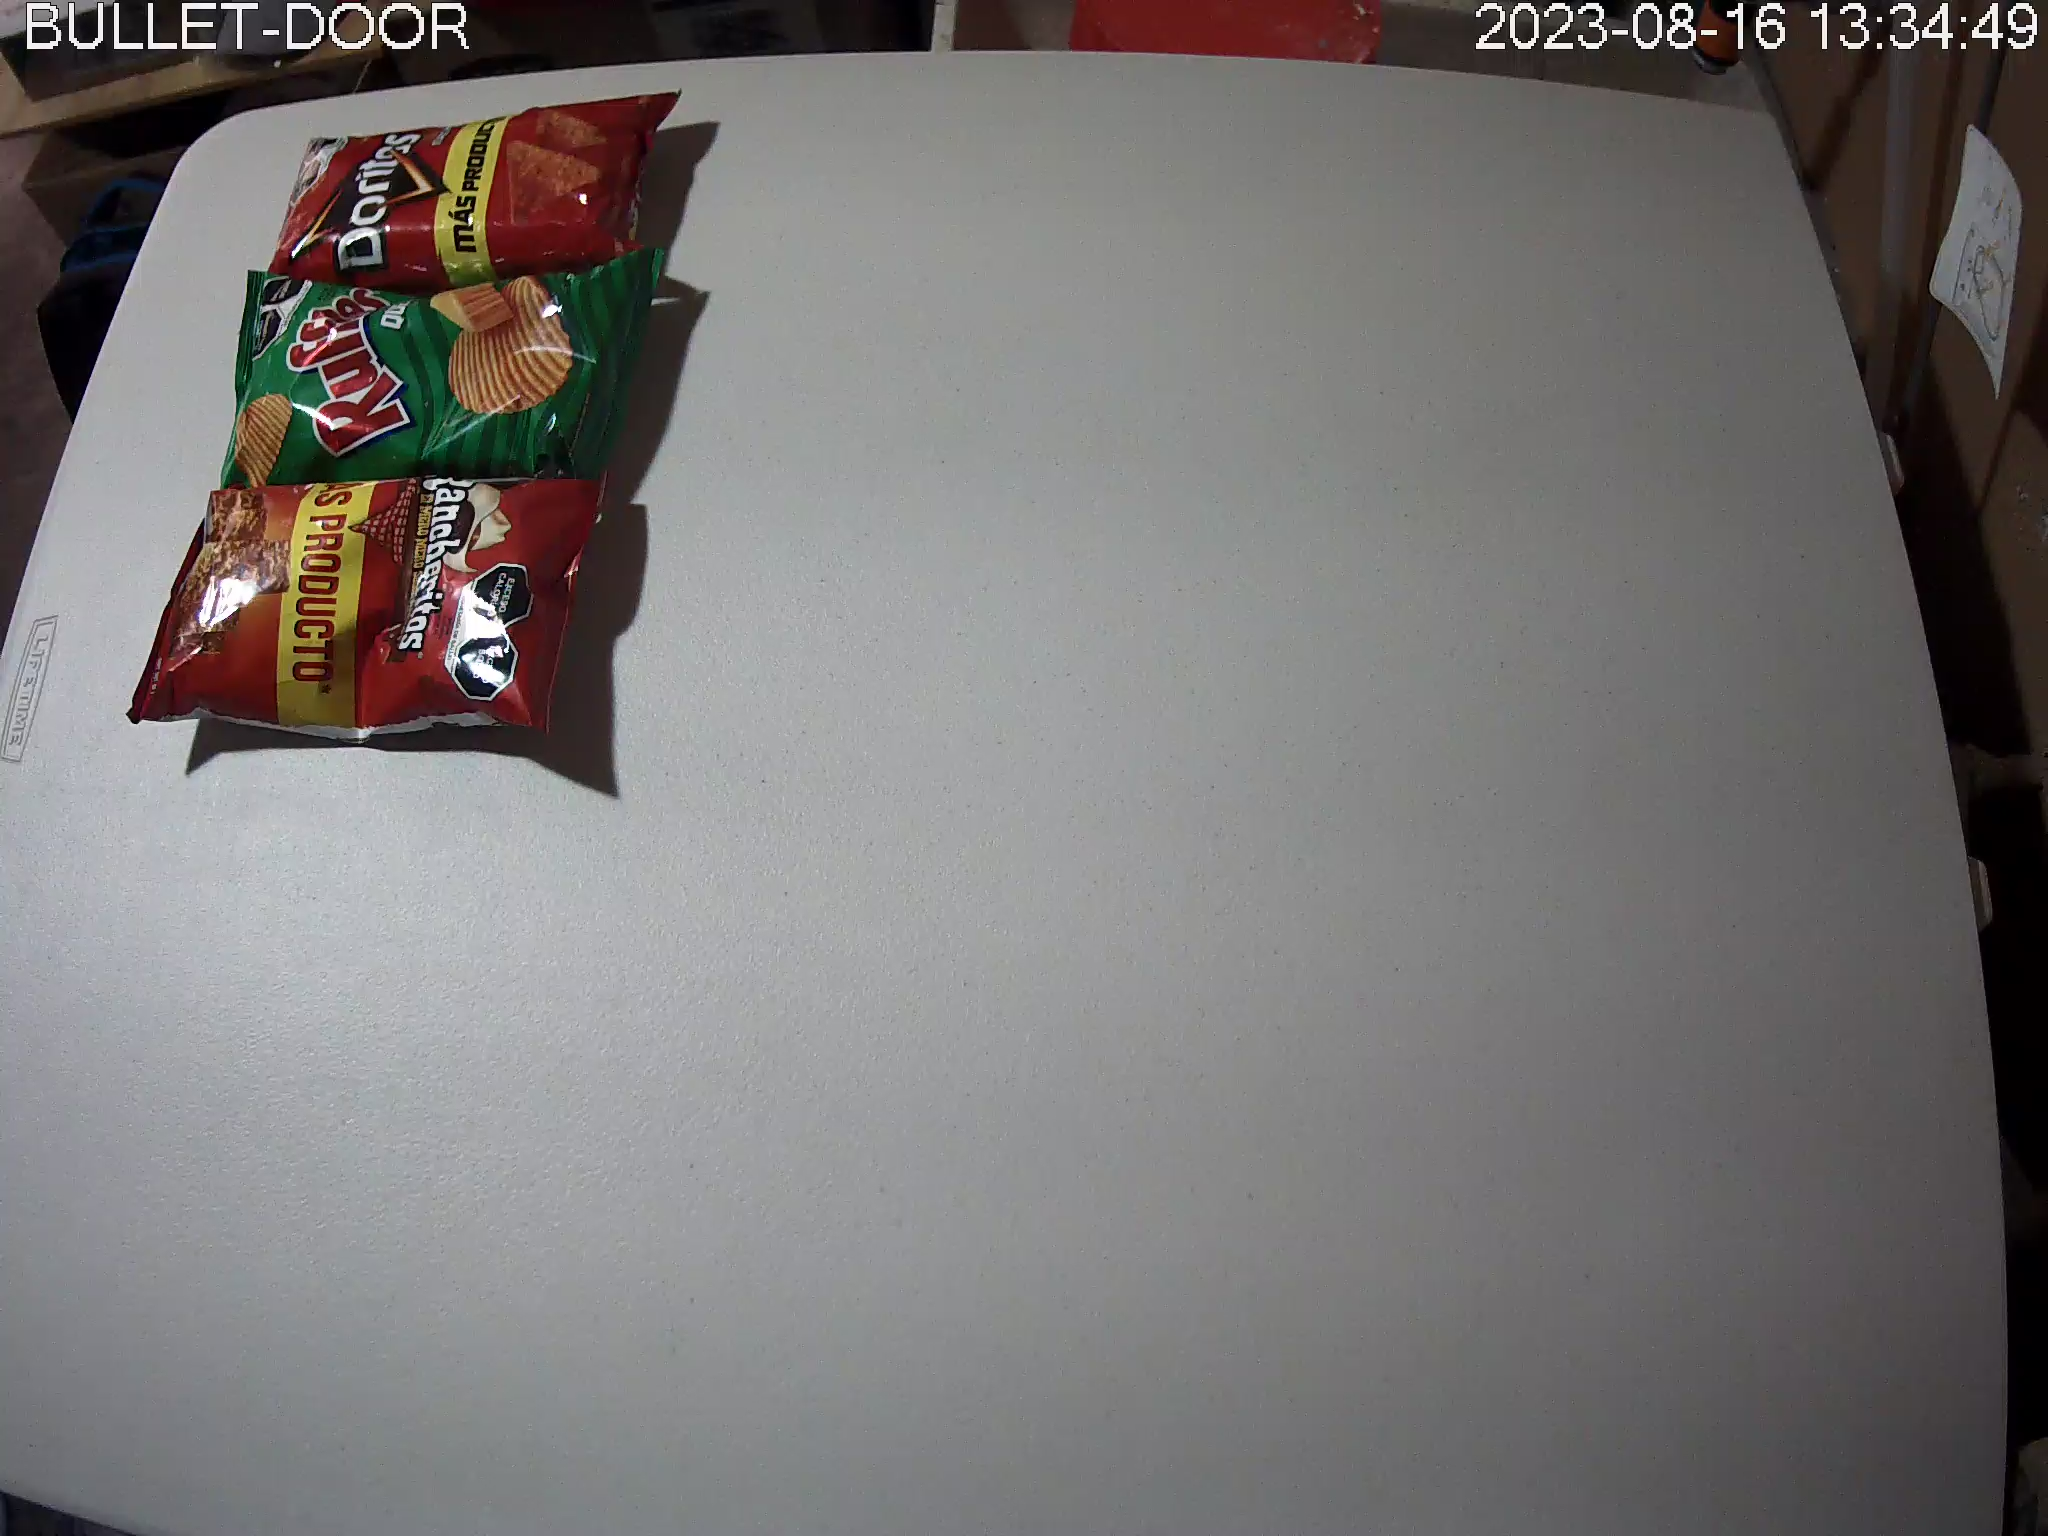DoritosN_61_F: (268, 84, 684, 290)
Rancheritos_58_F: (124, 471, 614, 744)
RufflesQ_48_F: (216, 245, 663, 492)
